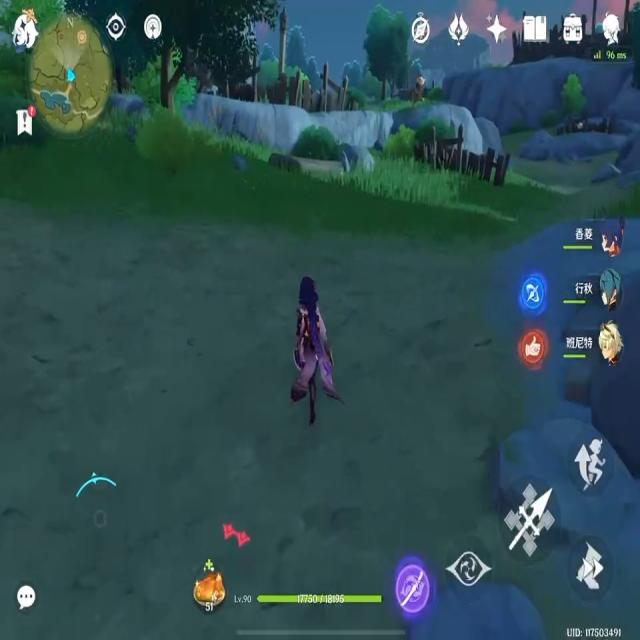genshin-hilichurls: (413, 76, 425, 107)
